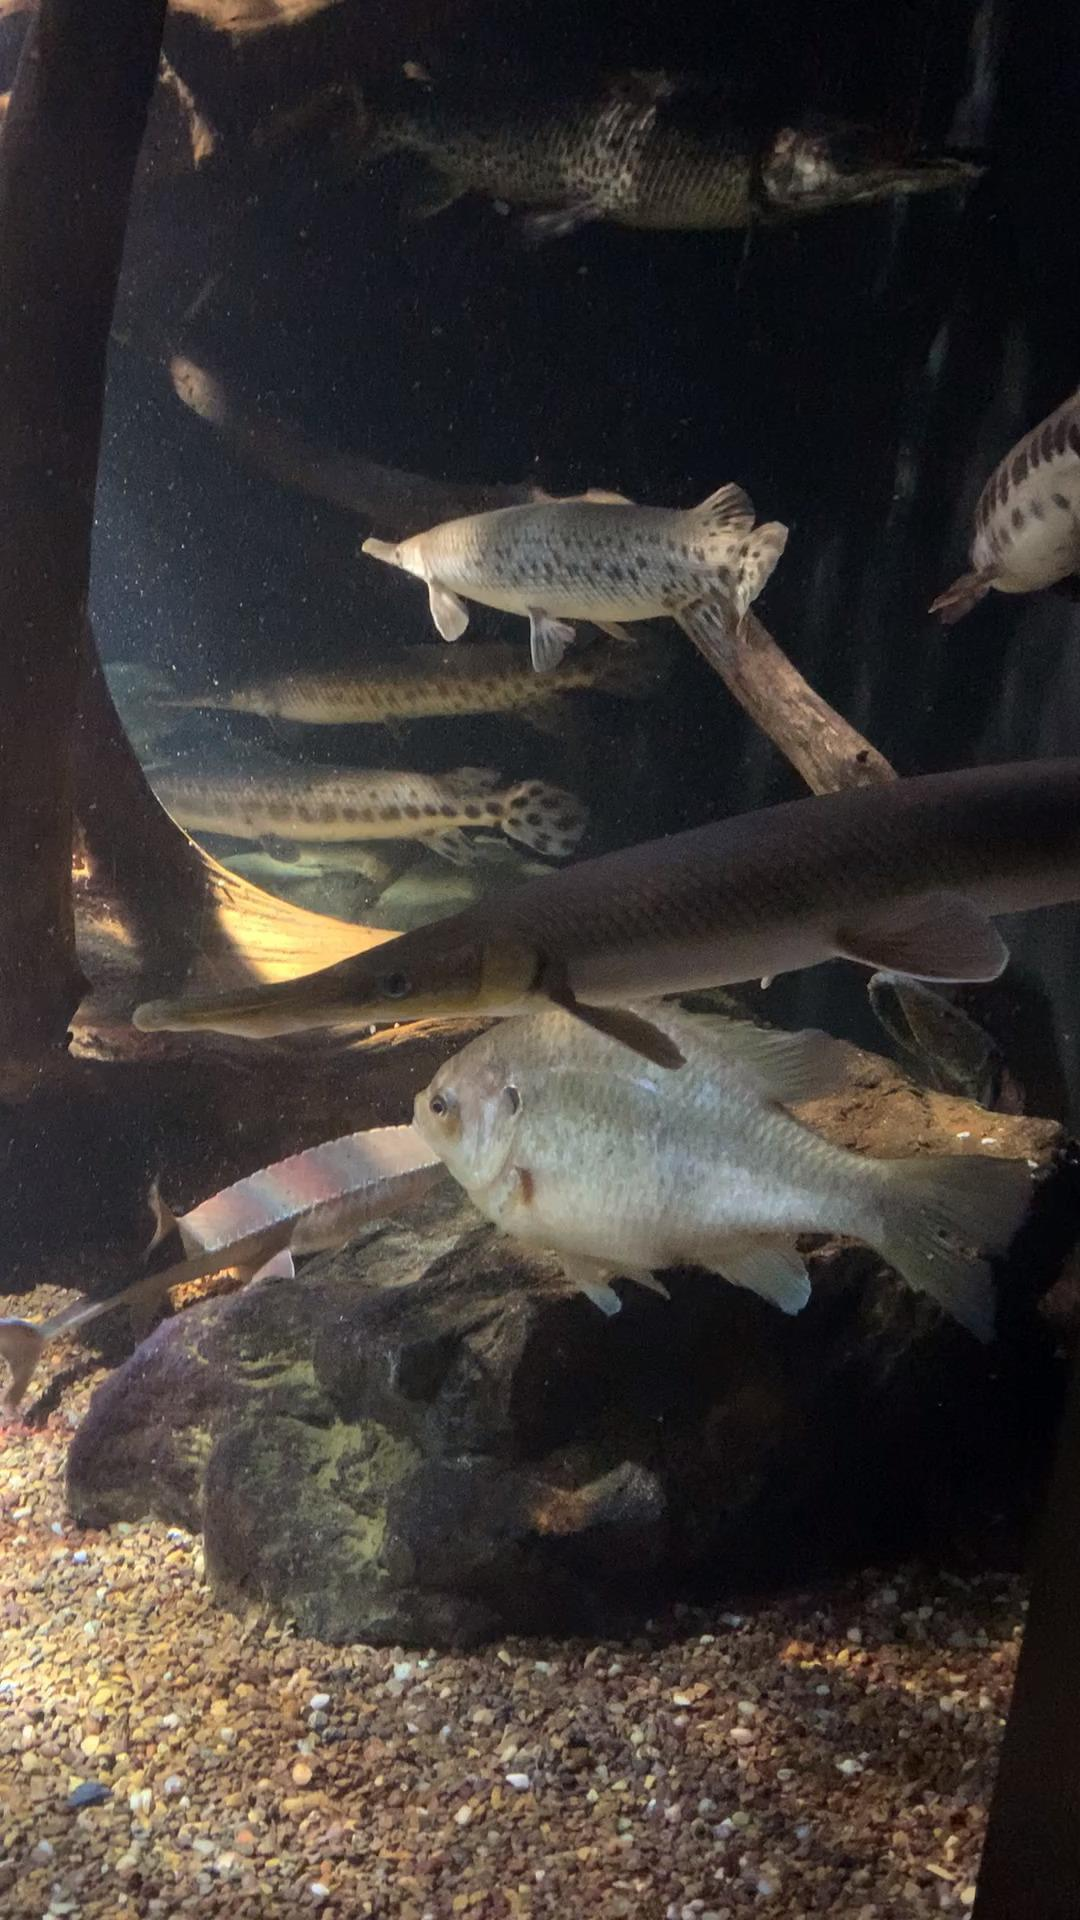fish: (127, 745, 1080, 1054), (400, 990, 1039, 1352), (290, 55, 1000, 251), (349, 472, 795, 690), (119, 633, 728, 756), (111, 749, 609, 880), (920, 388, 1080, 647)
